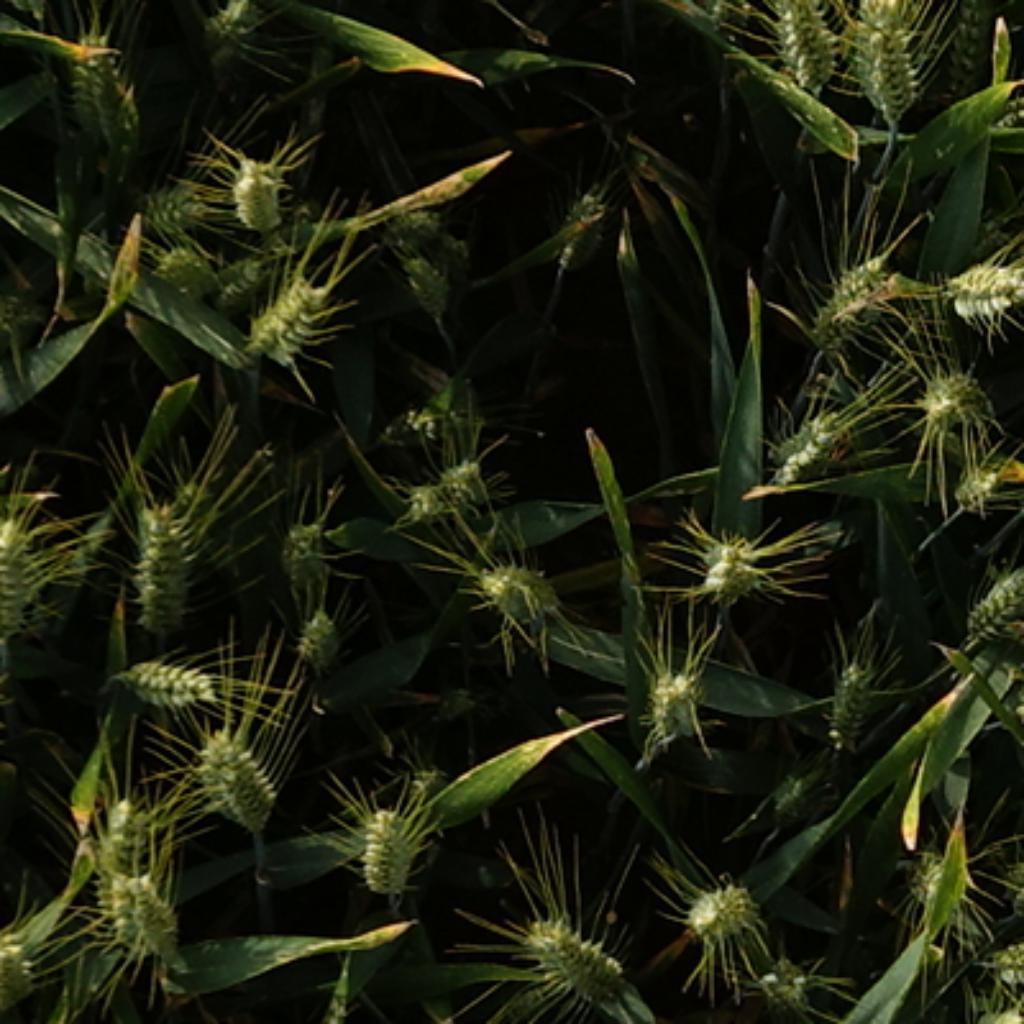0-0: (514, 898, 632, 1000), (125, 481, 207, 627), (189, 714, 286, 826), (238, 256, 337, 358), (89, 857, 184, 962), (849, 2, 934, 117), (811, 240, 901, 345), (64, 38, 143, 156), (757, 396, 855, 486), (348, 791, 424, 893), (757, 2, 842, 92), (542, 189, 618, 289), (84, 788, 166, 878), (934, 2, 1000, 112), (2, 499, 53, 637), (471, 545, 565, 619), (104, 645, 212, 709), (760, 742, 847, 821), (819, 647, 890, 742), (893, 829, 972, 913), (688, 519, 770, 599), (939, 250, 1024, 325), (954, 550, 1024, 640), (637, 652, 709, 739), (678, 867, 762, 939), (913, 355, 995, 427), (225, 143, 291, 227), (744, 944, 819, 1011), (273, 506, 335, 586), (197, 2, 281, 53), (394, 244, 453, 316), (291, 599, 350, 668), (151, 235, 222, 289), (371, 404, 463, 445), (2, 924, 43, 1016), (137, 181, 209, 227), (947, 458, 1006, 514), (394, 476, 458, 522), (442, 455, 491, 512), (407, 760, 453, 798), (995, 668, 1024, 721), (993, 87, 1024, 133)
